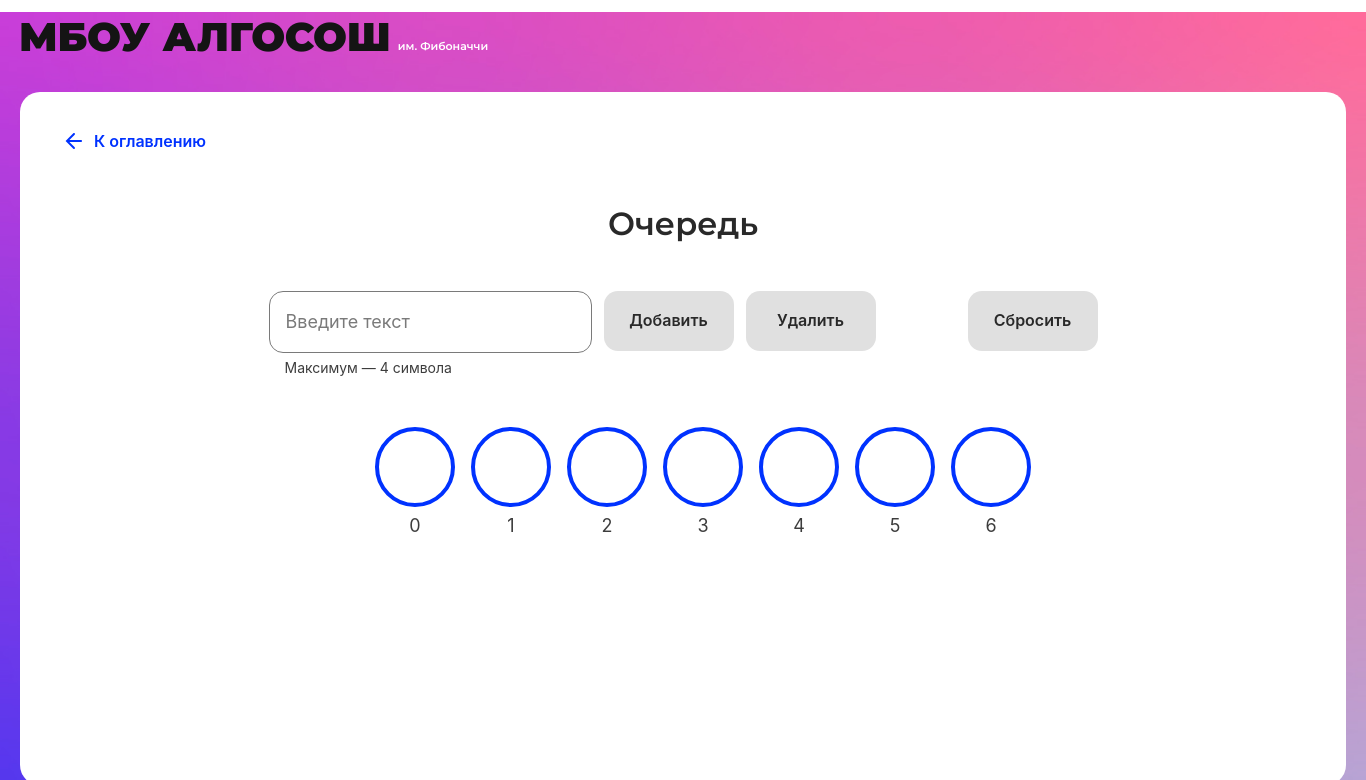
Test: Проверка очереди › Если в инпуте пусто, то кнопка добавления недоступна.
The width and height of the screenshot is (1366, 780).
Check: the heading "Очередь" is shown, box [608,204,758,243]
Check: the button "Добавить" is disabled, box [604,291,734,351]
In the field with placeholder "Введите текст": {"x": 431, "y": 322} [269,291,592,353], type "hell"
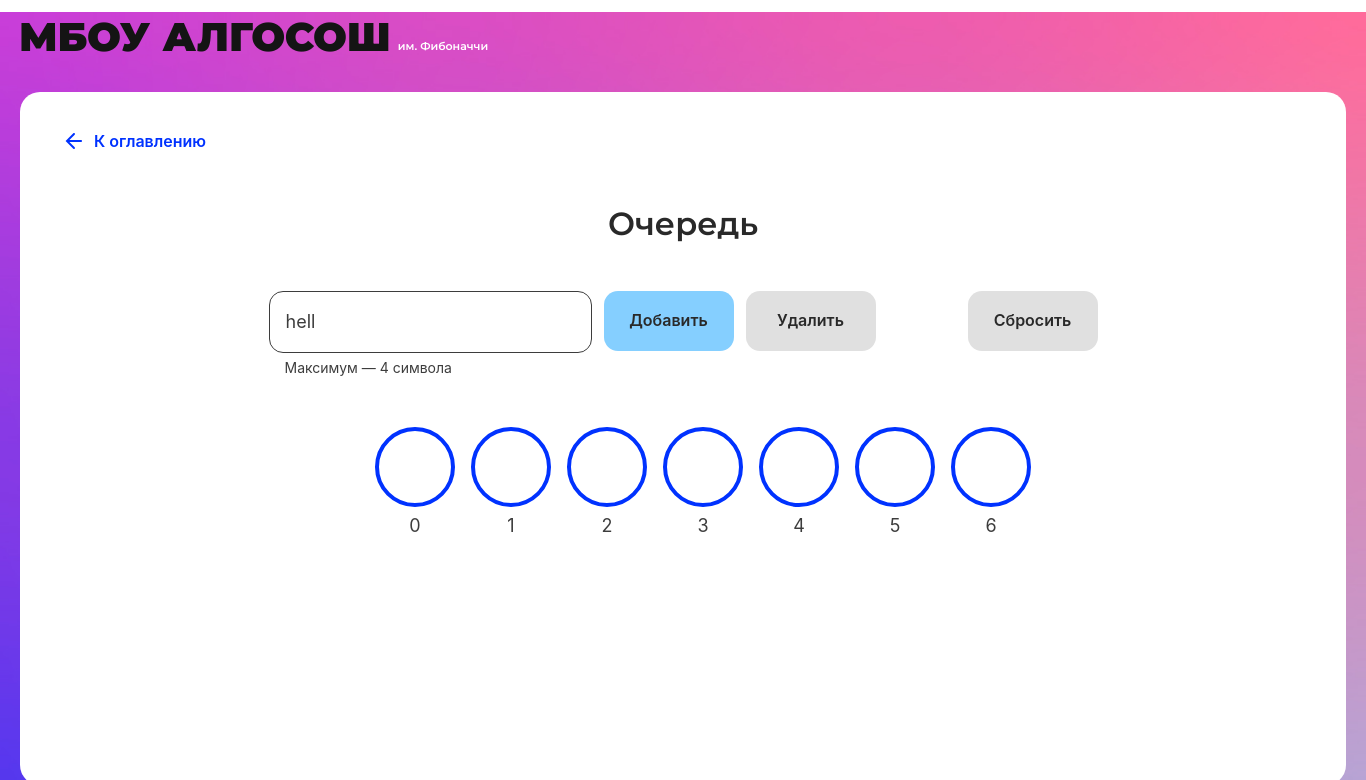
Check: the text "Добавить" is enabled
Clear the field: {"x": 431, "y": 322} [269,291,592,353]
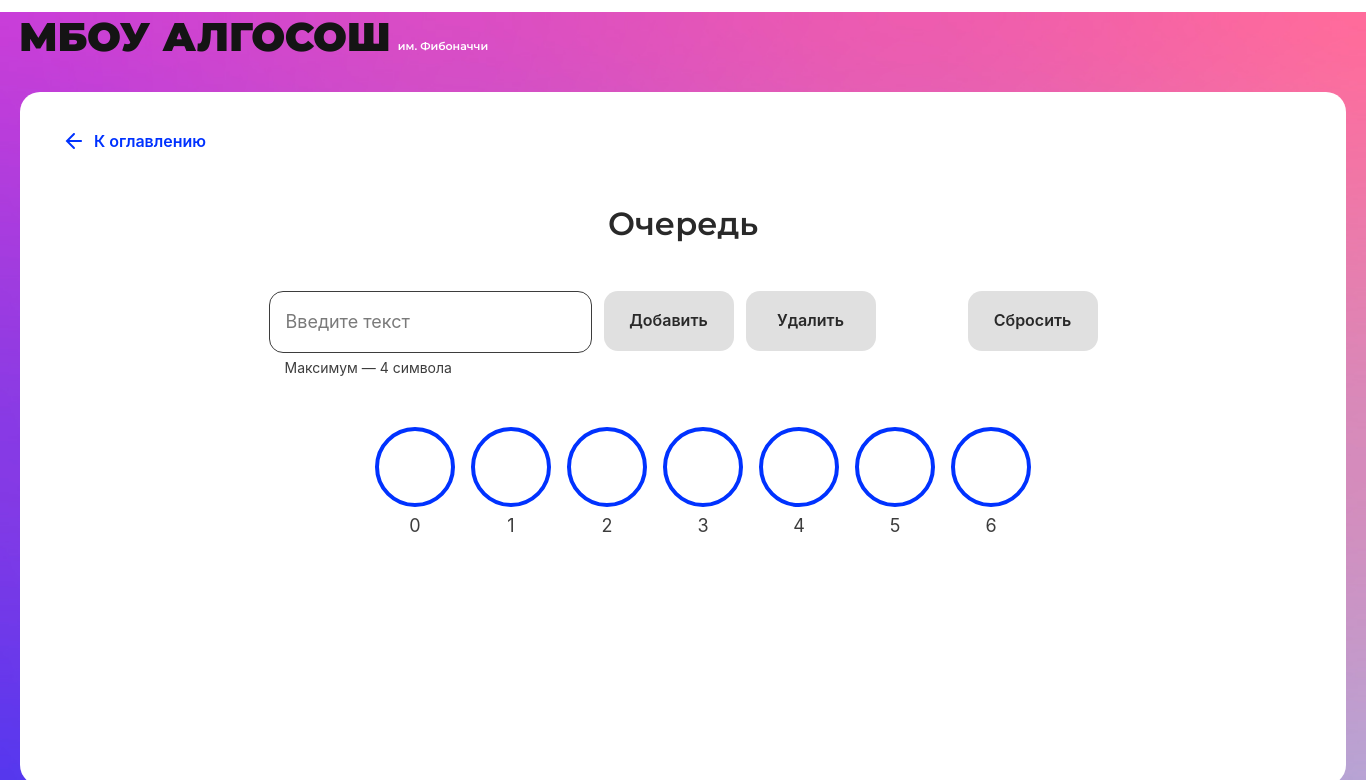
Check: the button "Добавить" is disabled, box [604,291,734,351]
